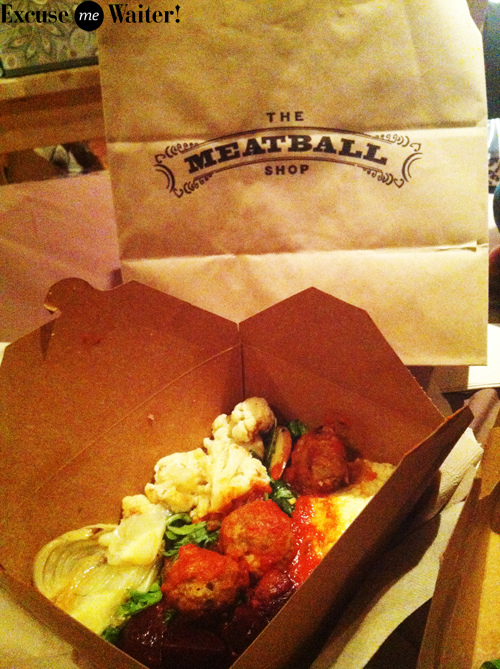meatballs: (161, 548, 236, 608), (222, 502, 290, 559), (294, 432, 349, 489)
